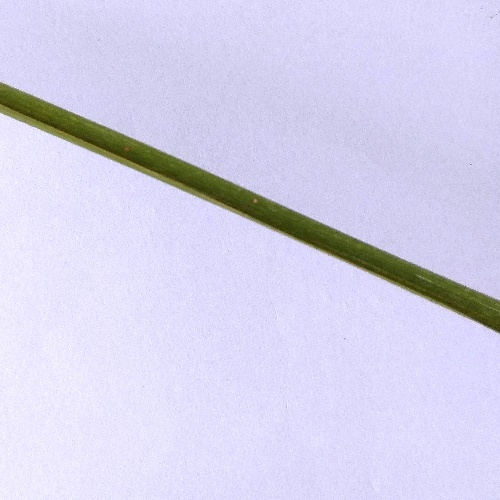Busuk Leher: (250, 193, 268, 207), (121, 142, 134, 155)
